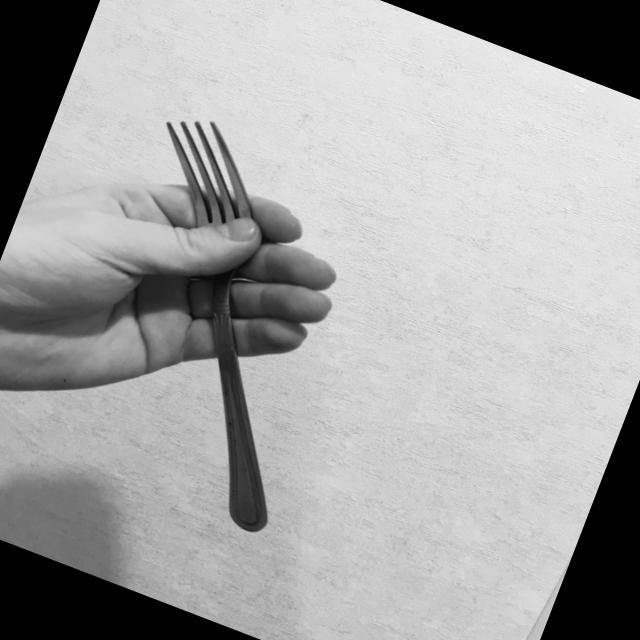fork: (37, 104, 396, 537)
